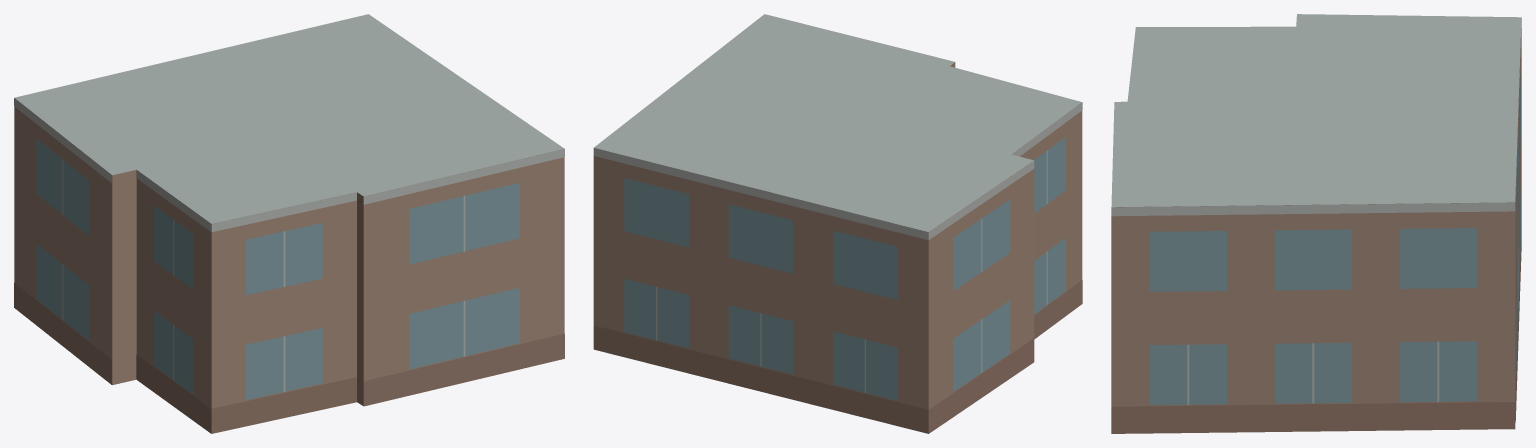
Rendered from survey-upis-33013213.glb.
The picture shows the model from 3 angles, left to right: view 1: azimuth 30°, elevation 25°; view 2: azimuth 150°, elevation 25°; view 3: azimuth 270°, elevation 25°; orthographic projection. The views are drawn at different scales.
Visible parts, largest first — view 1: survey-upis-33013213.tmp; view 2: survey-upis-33013213.tmp; view 3: survey-upis-33013213.tmp.
Part boxes in pixels (x1=…): survey-upis-33013213.tmp: x1=14, y1=14, x2=564, y2=433; survey-upis-33013213.tmp: x1=593, y1=14, x2=1082, y2=433; survey-upis-33013213.tmp: x1=1111, y1=14, x2=1521, y2=433.
Bounding box in the file's own units: 11.16 × 6.1 × 10.01.
